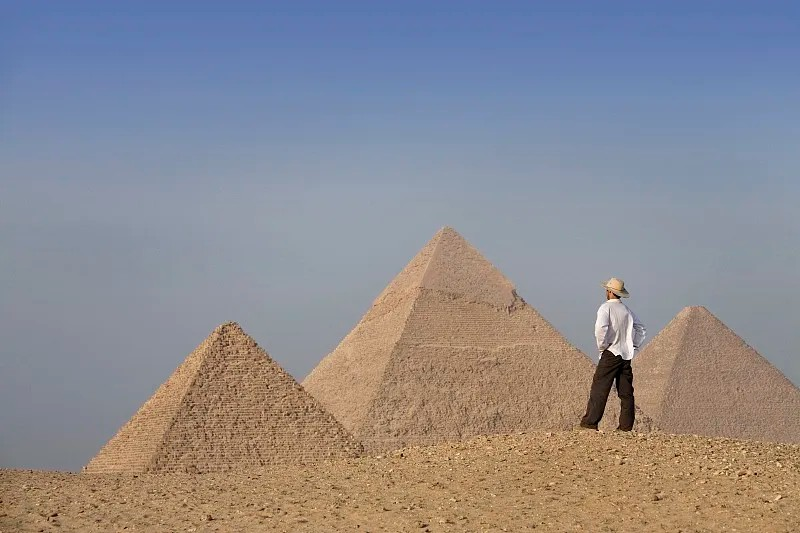Pyramid: (301, 227, 660, 450), (81, 321, 371, 475), (631, 305, 800, 444)
